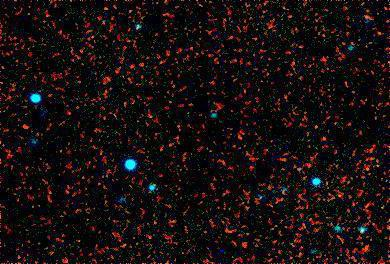star: (9, 112, 39, 142)
